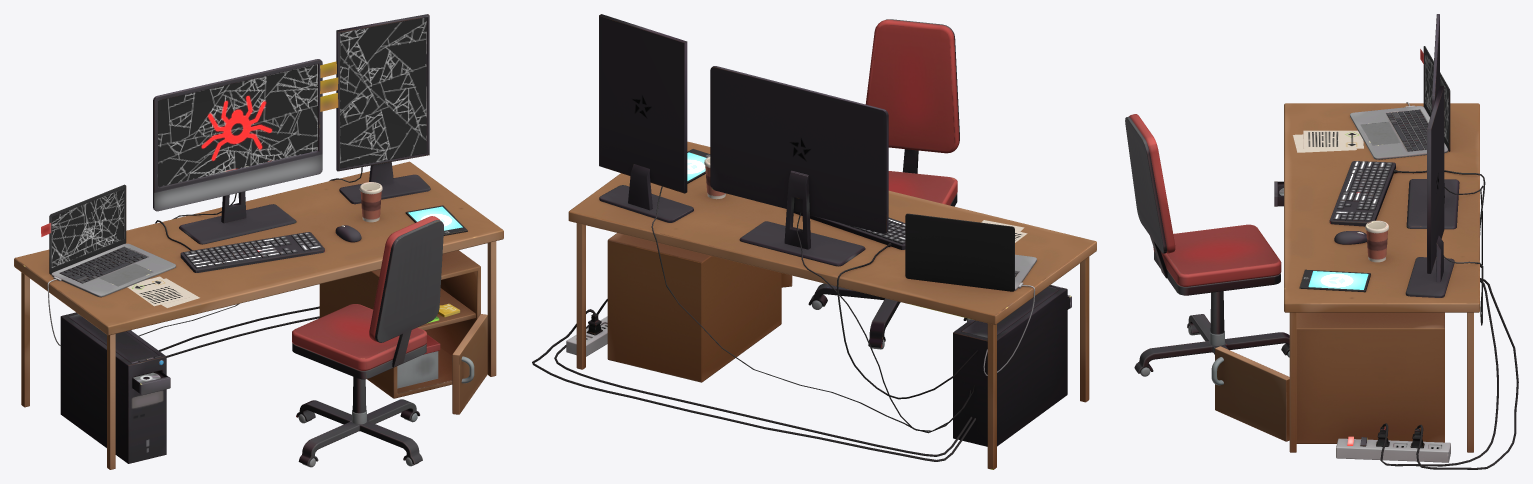
The model's file is setup.glb.
The picture shows the model from 3 angles, left to right: view 1: azimuth 30°, elevation 25°; view 2: azimuth 150°, elevation 25°; view 3: azimuth 270°, elevation 25°; orthographic projection. The views are drawn at different scales.
Visible parts, largest first — view 1: Final; view 2: Final; view 3: Final.
Boxes of the visible parts, x1,y1,x2,y2 form: Final: (14, 14, 503, 469); Final: (532, 14, 1096, 469); Final: (1125, 14, 1518, 469).
Size of the model in its own units: 2.36 by 1.64 by 1.81.
1 material, 1 textured.
